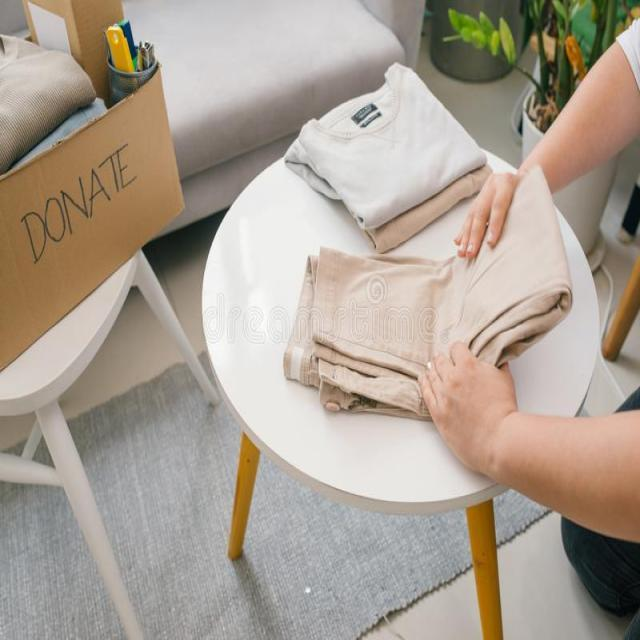clothes: (289, 62, 474, 260), (414, 158, 574, 360), (286, 240, 436, 392), (1, 29, 84, 142)
